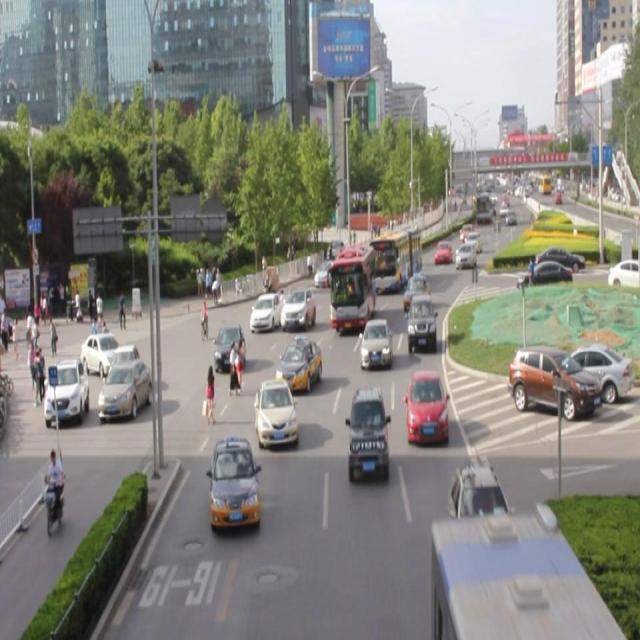car: (450, 464, 507, 546), (211, 440, 257, 532), (348, 388, 386, 478), (406, 372, 448, 445), (255, 378, 295, 447), (276, 338, 320, 394), (407, 294, 436, 355), (278, 280, 313, 327), (360, 320, 390, 370), (214, 320, 243, 370), (248, 288, 281, 326), (403, 275, 430, 313)
van: (433, 518, 609, 640), (330, 246, 374, 330), (370, 229, 421, 288)
